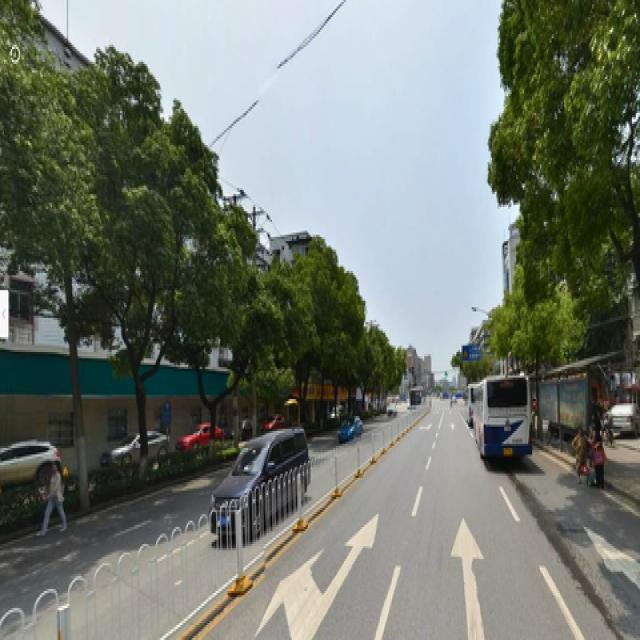cinn: (88, 98, 173, 463), (180, 222, 252, 484)
